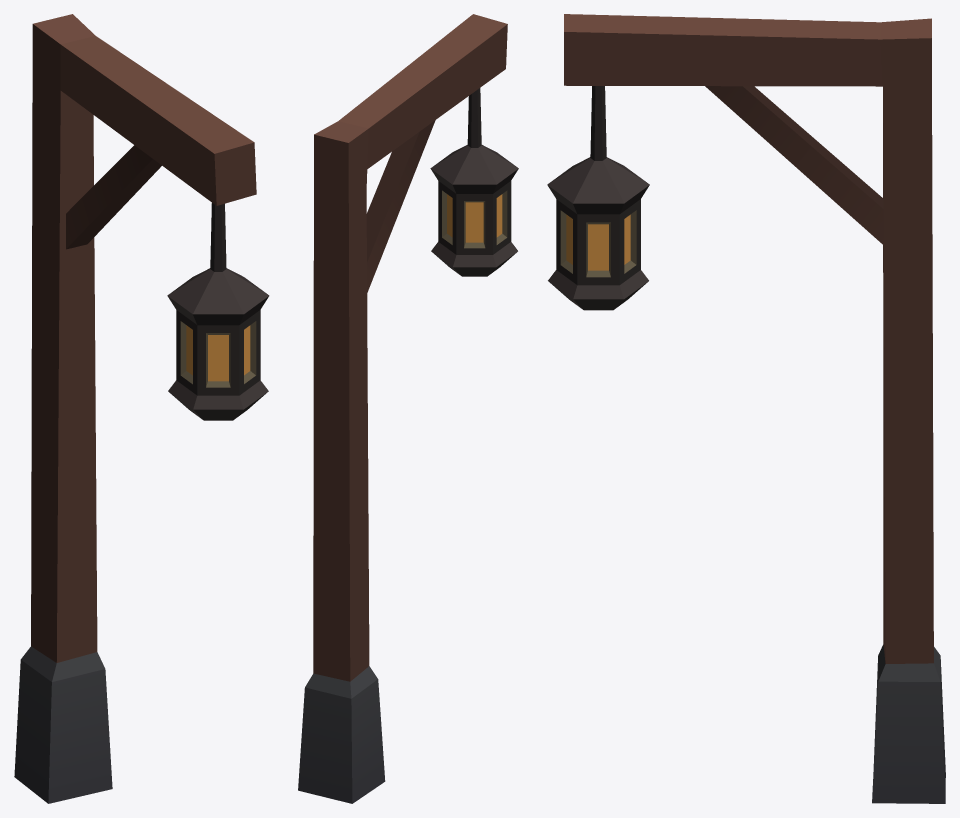
The model's file is Lamppost.fbx.
3 renders of one model, left to right at view 1: azimuth 30°, elevation 25°; view 2: azimuth 150°, elevation 25°; view 3: azimuth 270°, elevation 25°, orthographic. The views are drawn at different scales.
Visible parts, largest first — view 1: Street Lamp, Lamp; view 2: Street Lamp, Lamp; view 3: Street Lamp, Lamp.
Boxes of the visible parts, bbox=[...] form: Street Lamp: bbox=[14, 14, 256, 803]; Lamp: bbox=[167, 203, 269, 420]; Street Lamp: bbox=[298, 14, 507, 803]; Lamp: bbox=[430, 88, 518, 276]; Street Lamp: bbox=[564, 14, 945, 803]; Lamp: bbox=[547, 86, 649, 310].
Bounding box in the file's own units: 0.3935 × 3.73 × 1.76.
